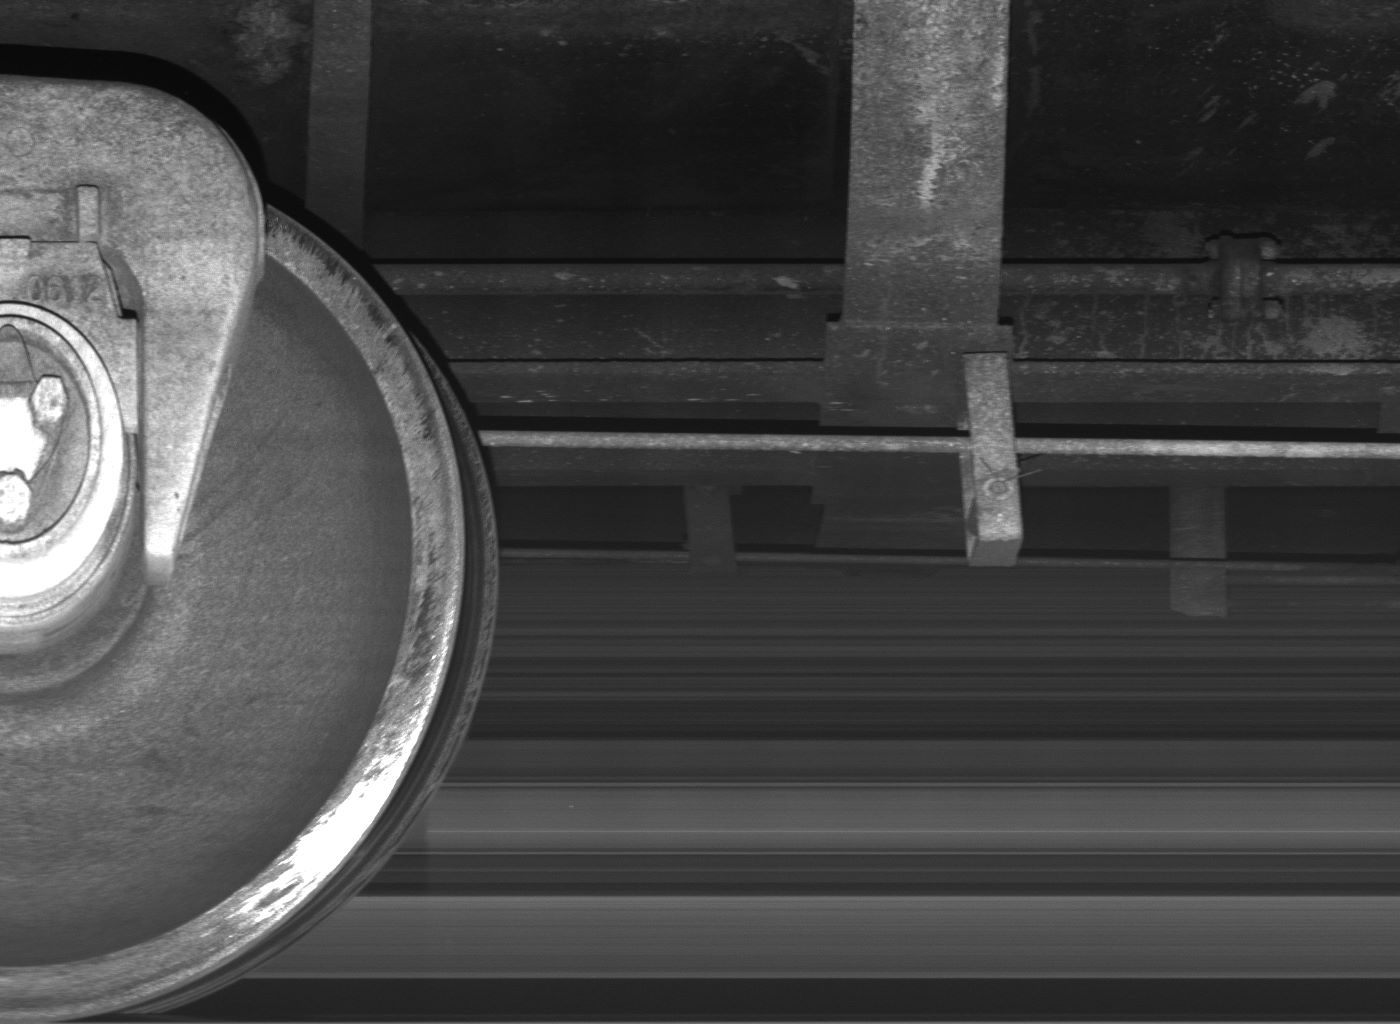Upper lever: (1167, 485, 1226, 623)
normal: (957, 351, 1025, 569), (683, 487, 739, 578)
